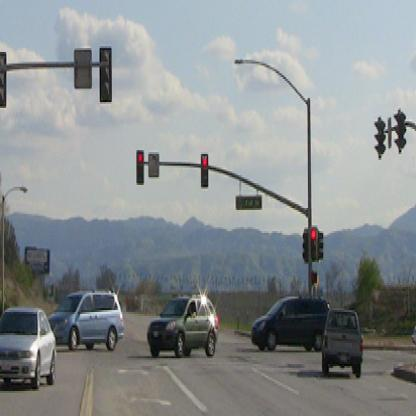red: (201, 153, 209, 189), (310, 226, 318, 262), (136, 150, 144, 185)
